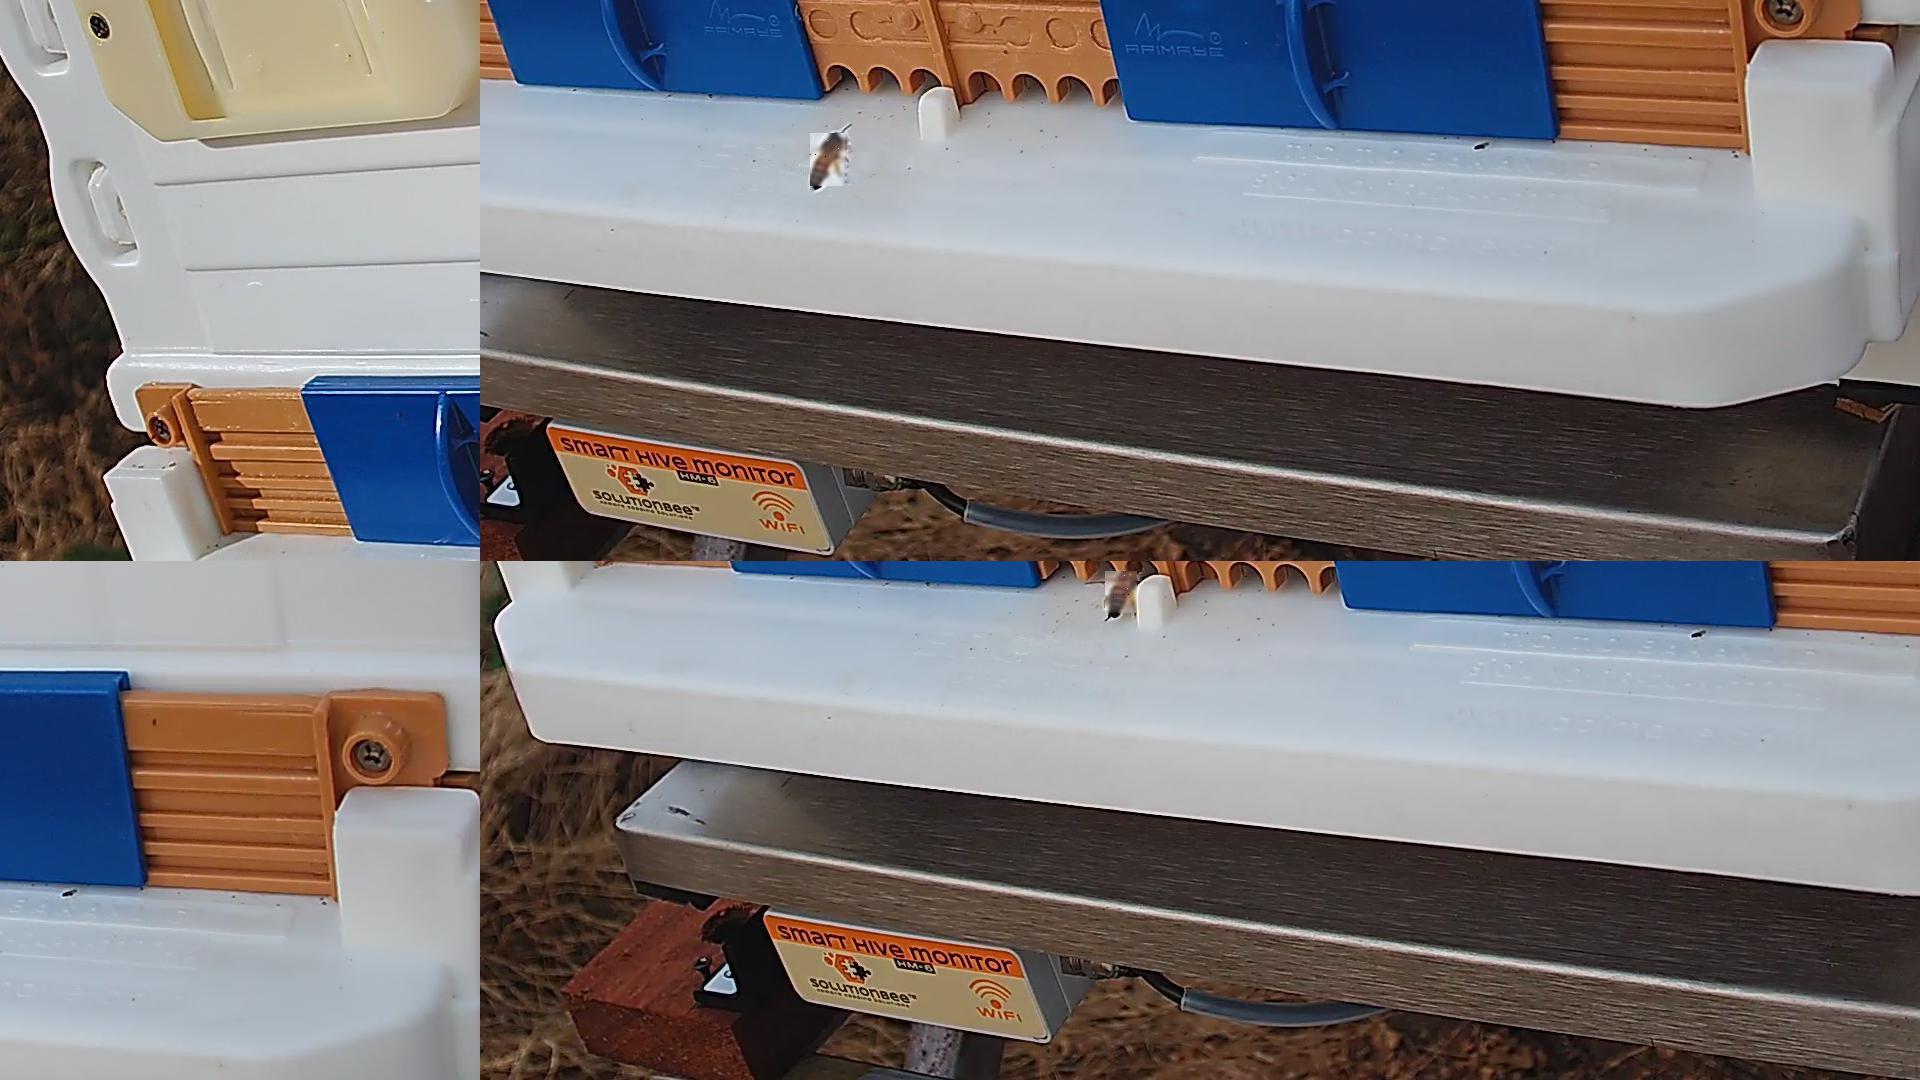pollenbee: (811, 133, 848, 187), (1105, 572, 1138, 616)
